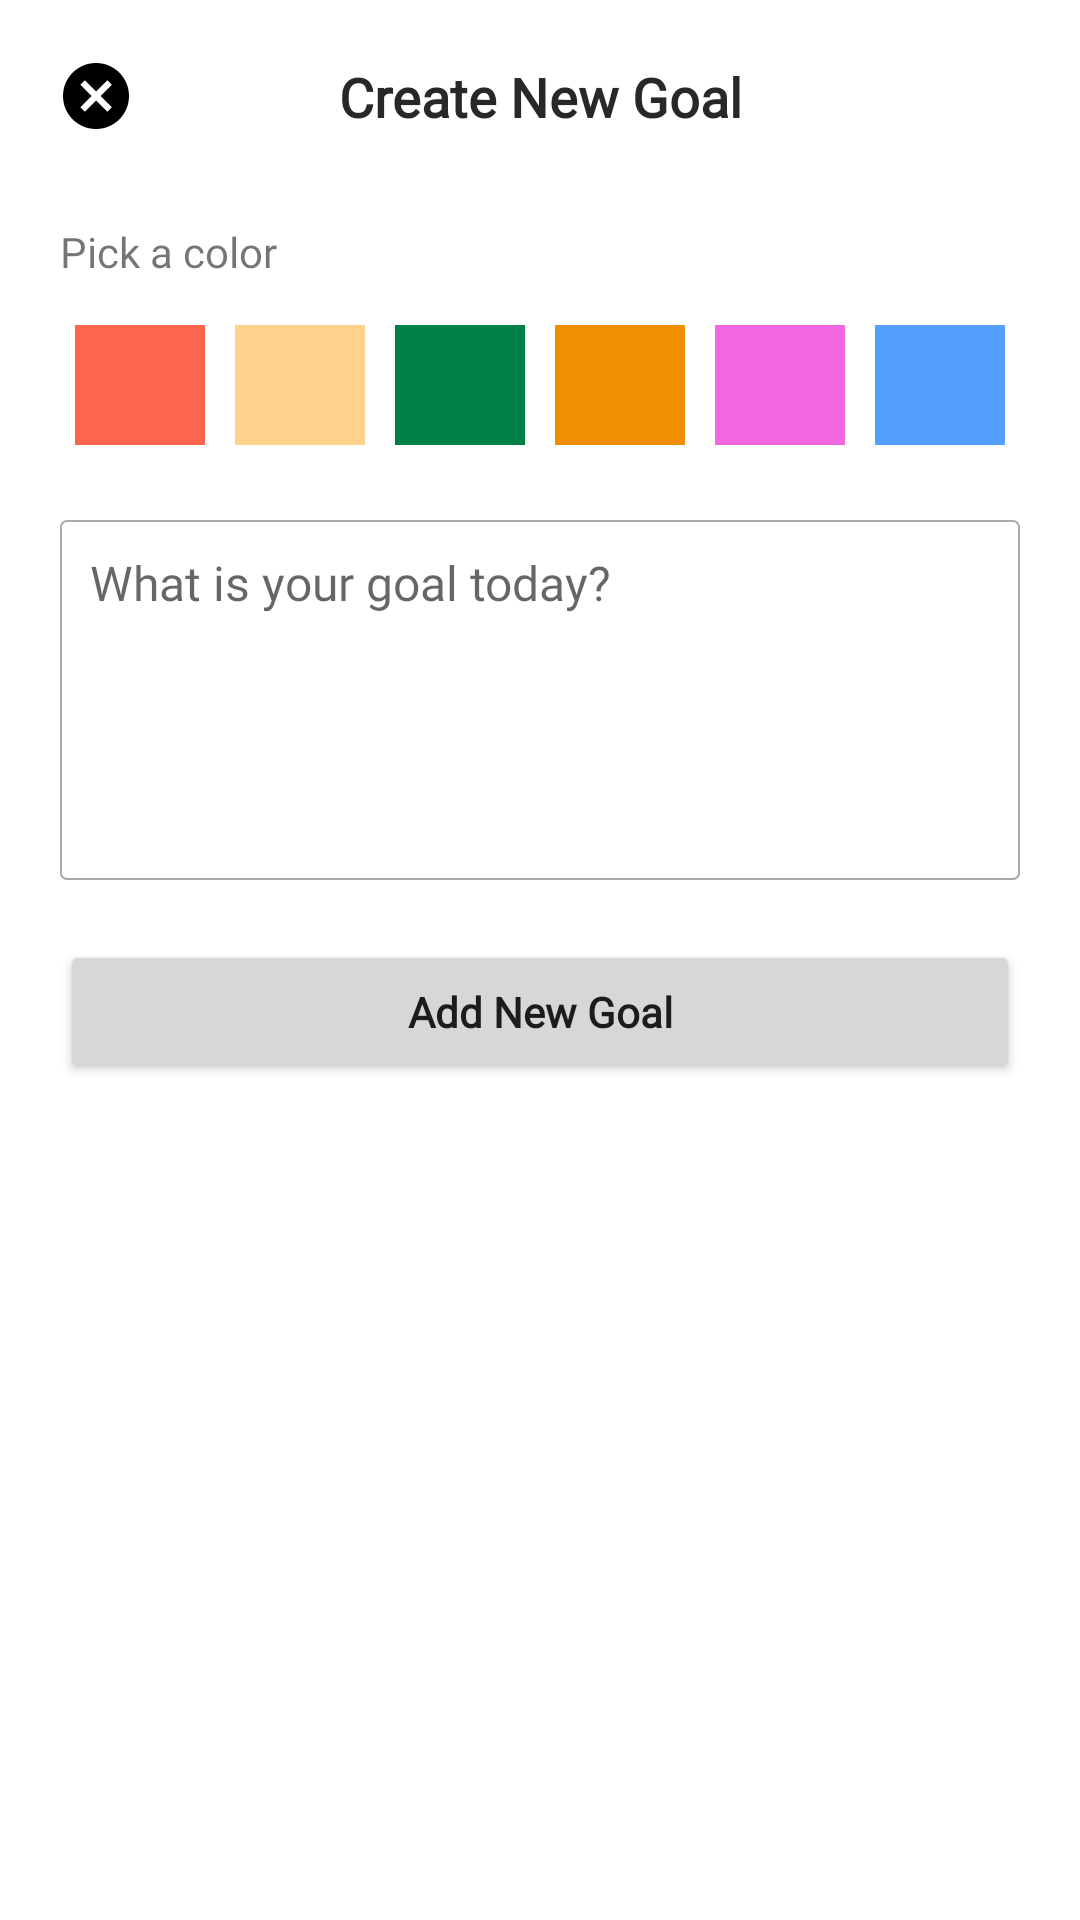

Locate icon controls on the screen. Image size 1080px×1920px, boxes as (x1, y1, x2, y2).
close: (63, 63, 129, 129)
